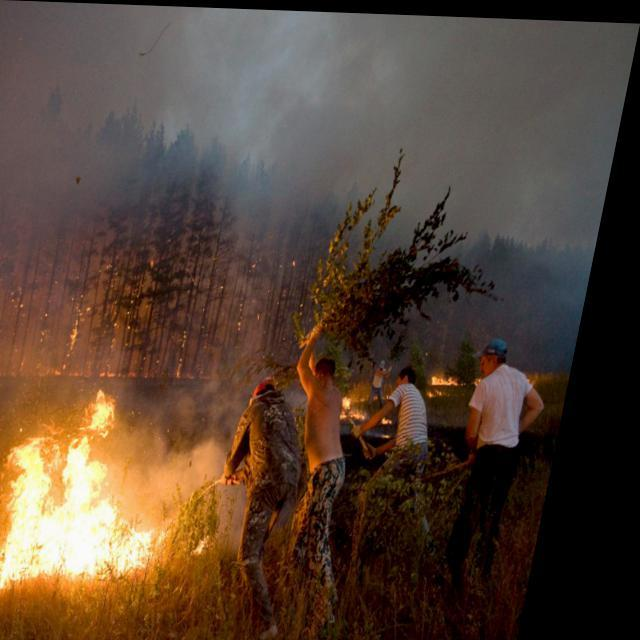Fire: (0, 381, 249, 603)
